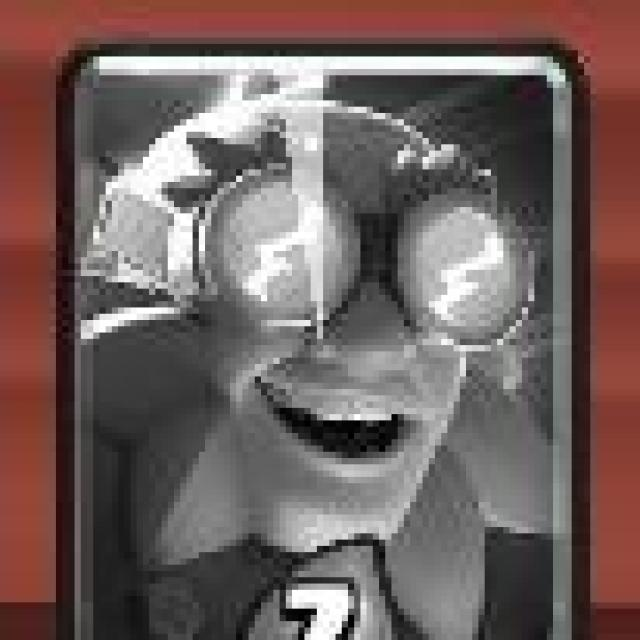Electro_Giant: (47, 37, 591, 640)
